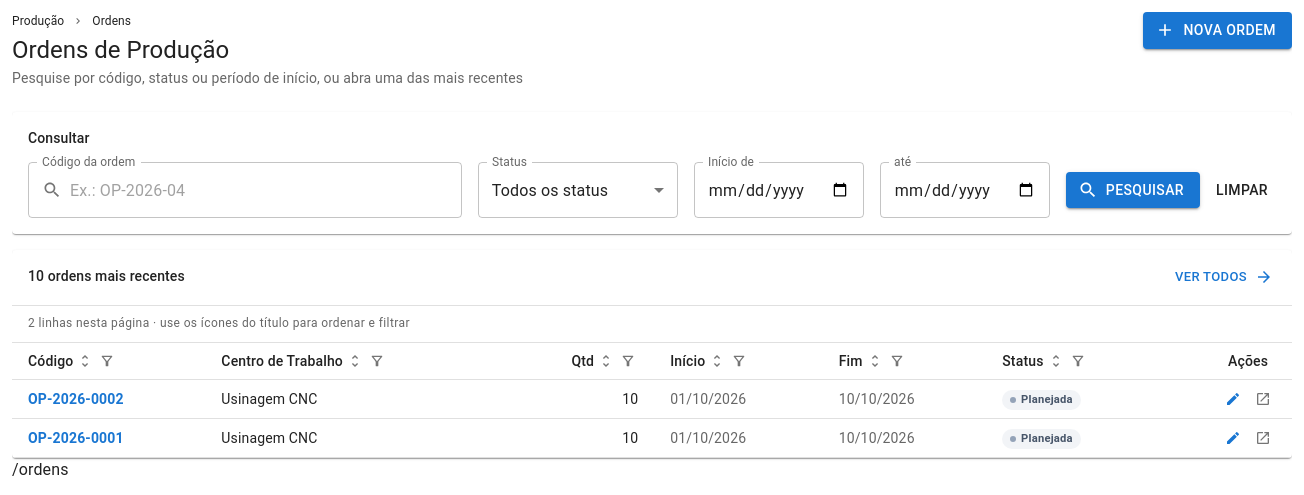
it: OrdensPage (consulta) › limpar esvazia os campos sem sair da tela
The image size is (1304, 495).
In the field labelled "Código da ordem": (266, 190) x1=70 y1=162 x2=462 y2=218, type "OP-1"
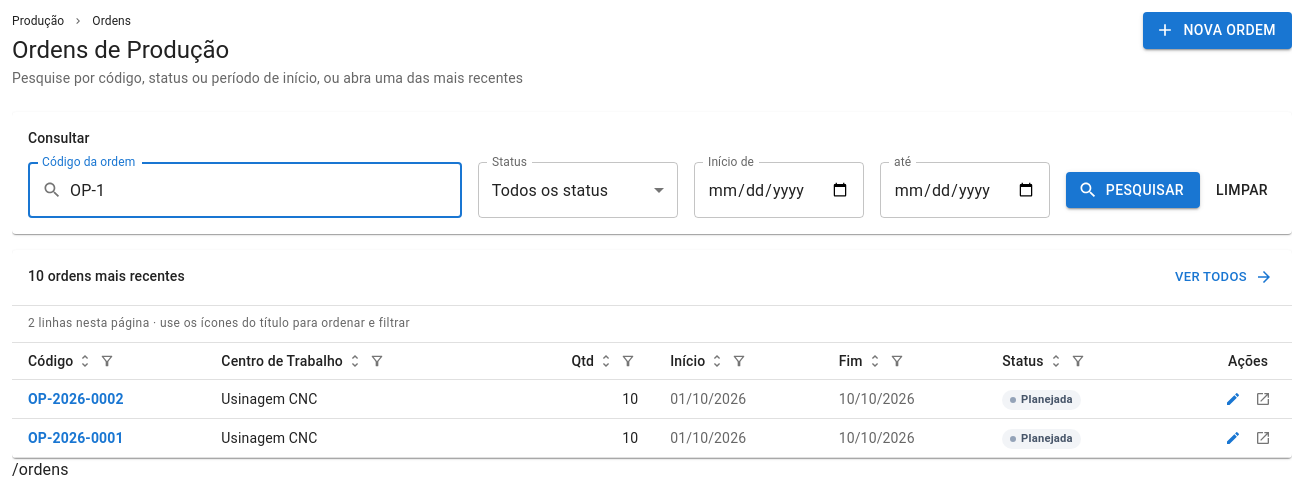
Click the button "Limpar": (1242, 190) x1=1208 y1=172 x2=1276 y2=208
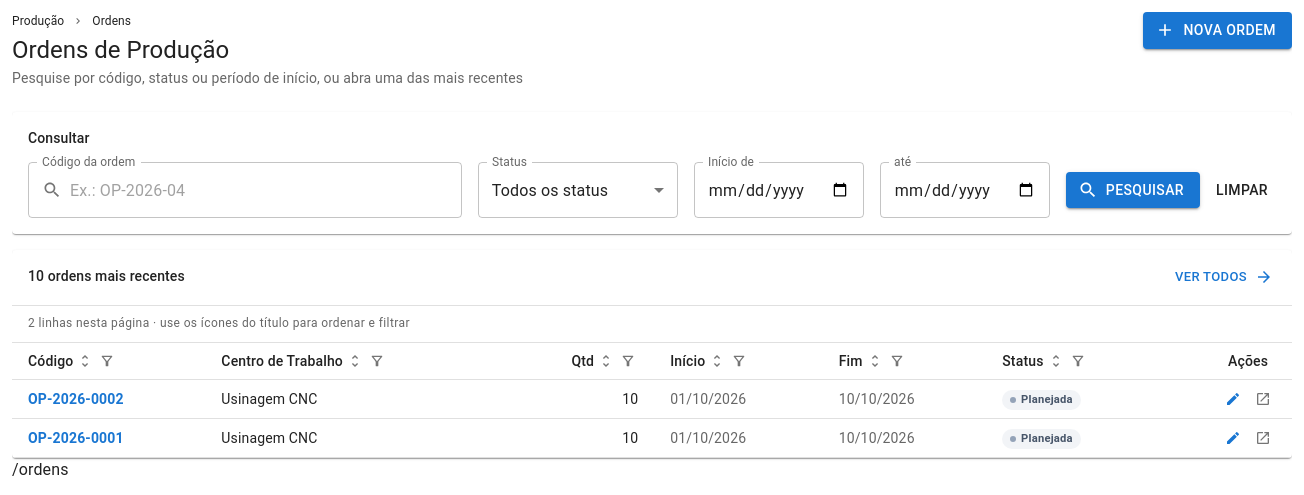
Check: the text with test id "rota" reads "/ordens", box x1=12 y1=460 x2=69 y2=479
Check: the field labelled "Código da ordem" is empty, box x1=70 y1=162 x2=462 y2=218
